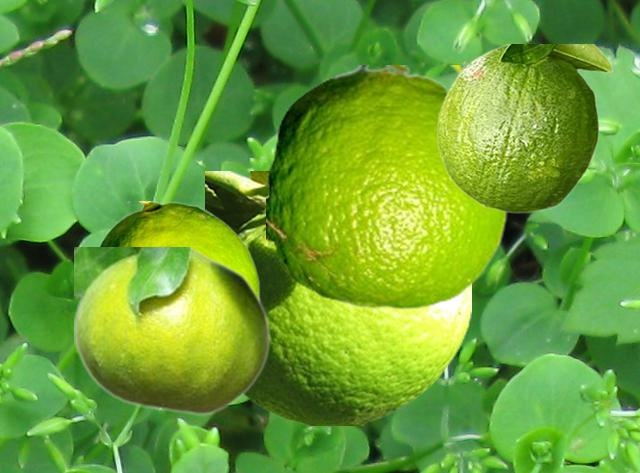dalandan: (205, 171, 470, 424), (266, 65, 506, 308), (74, 247, 270, 415), (436, 44, 612, 212), (96, 201, 259, 294)
